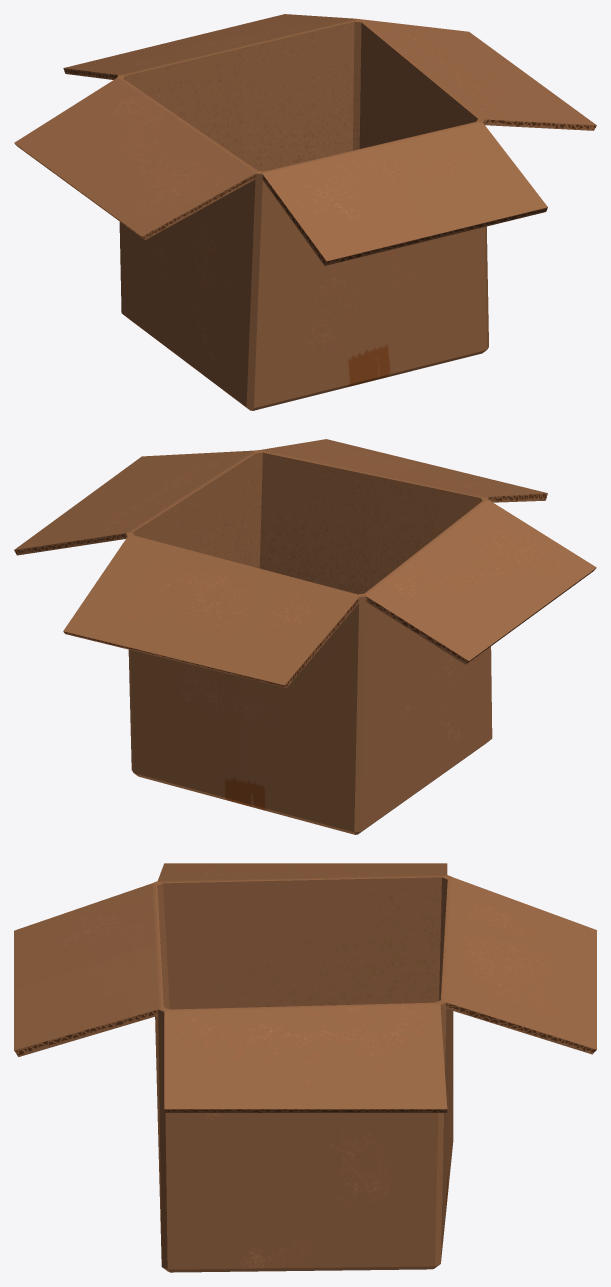
Rendered from boite.fbx.
3 views of the same model, one above another, from view 1: azimuth 30°, elevation 25°; view 2: azimuth 150°, elevation 25°; view 3: azimuth 270°, elevation 25° (orthographic). The views are drawn at different scales.
Parts seen in each view (by area): view 1: boiteVendeur; view 2: boiteVendeur; view 3: boiteVendeur.
Boxes of the visible parts, x1,y1,x2,y2 form: boiteVendeur: [14, 14, 596, 410]; boiteVendeur: [14, 439, 596, 834]; boiteVendeur: [14, 863, 596, 1272].
Bounding box in the file's own units: 59.18 × 30.17 × 59.29.
Materials: 1 (1 with a texture image).
